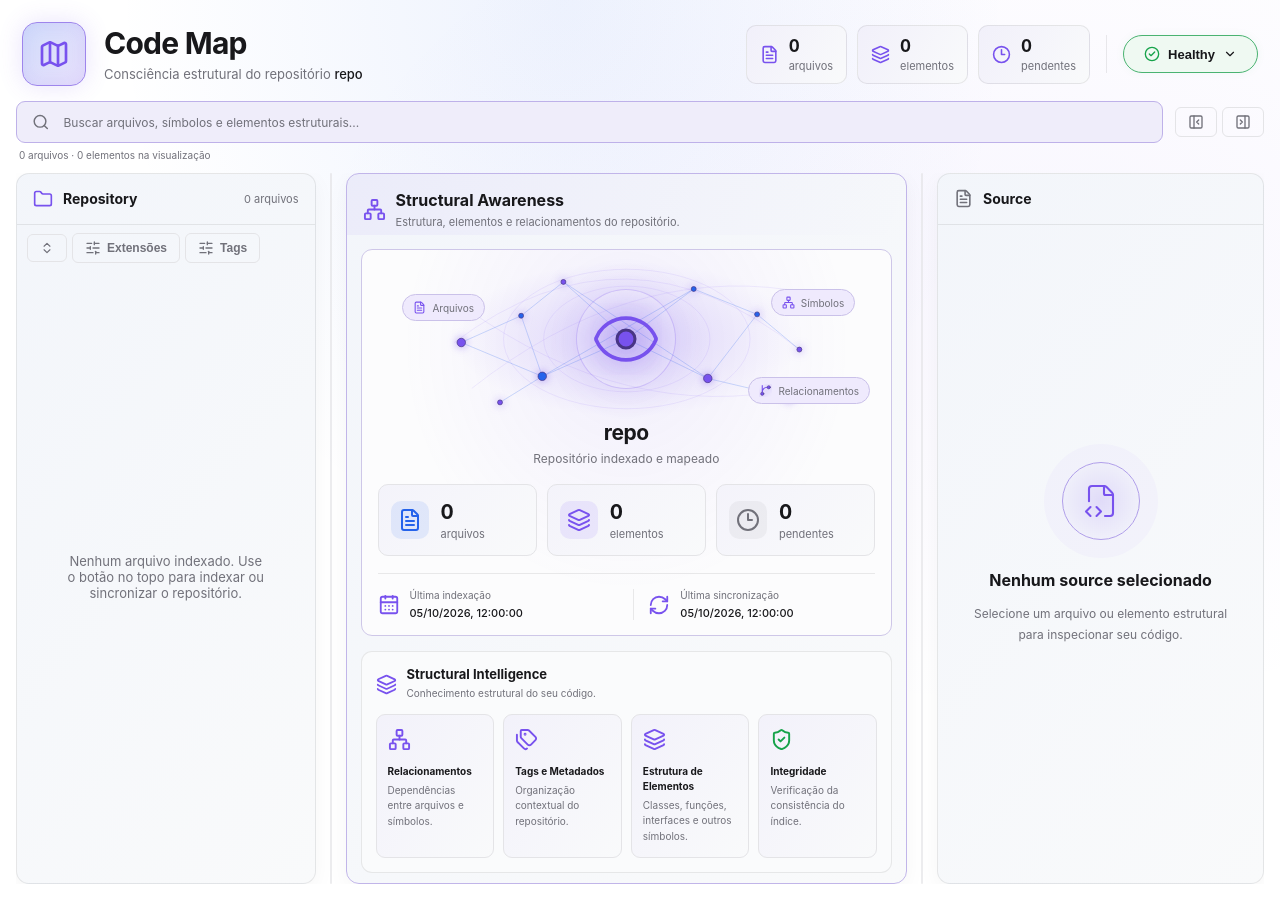
Scenario: does not report Healthy after a failed or unknown integrity result: {"success":false,"error":"Controlled verification failure"}
Click the button with aria-label "Code Map Health: Healthy": (1190, 54) [1123,35,1258,73]
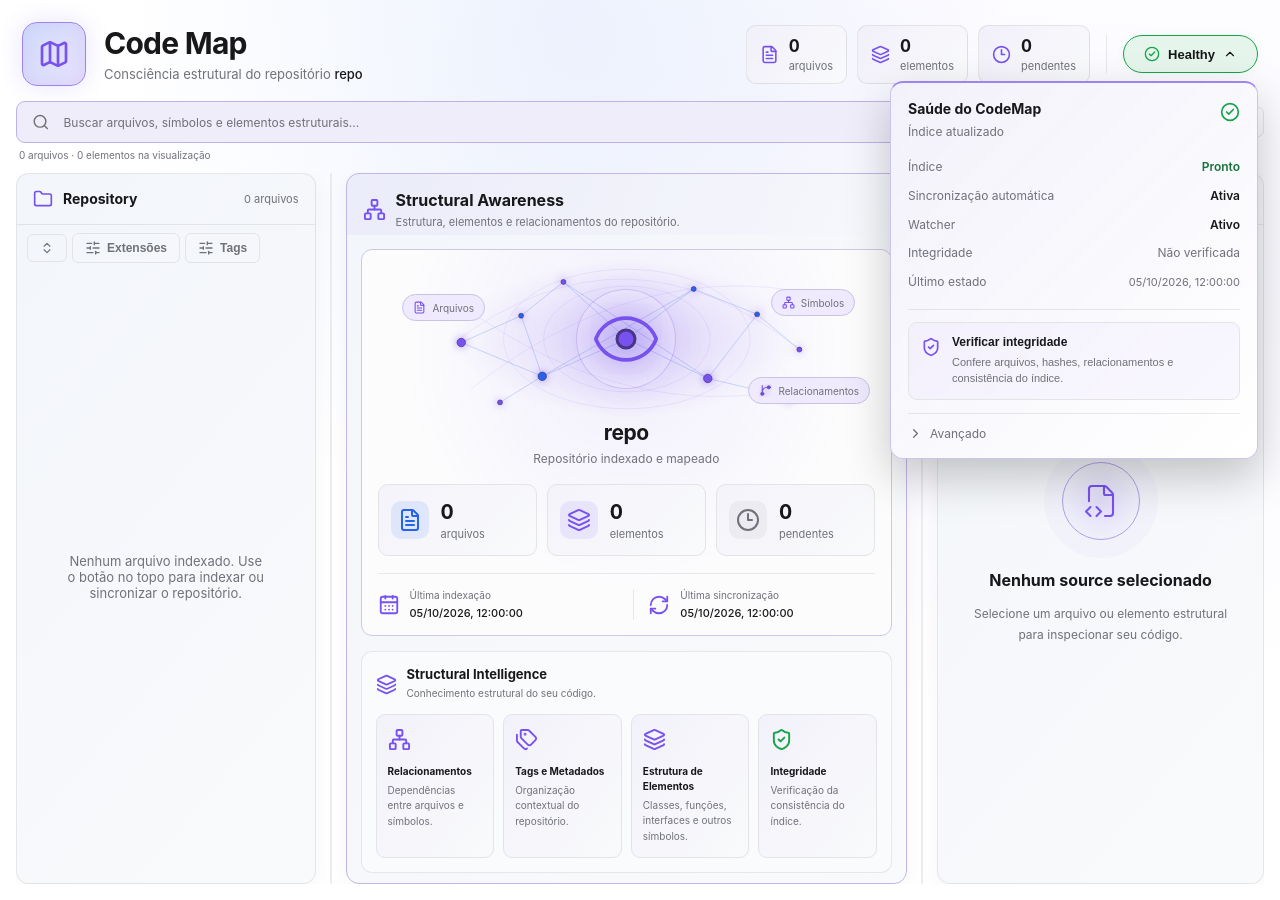
Click the button "Verificar integridade": (1074, 361) [908,322,1240,400]
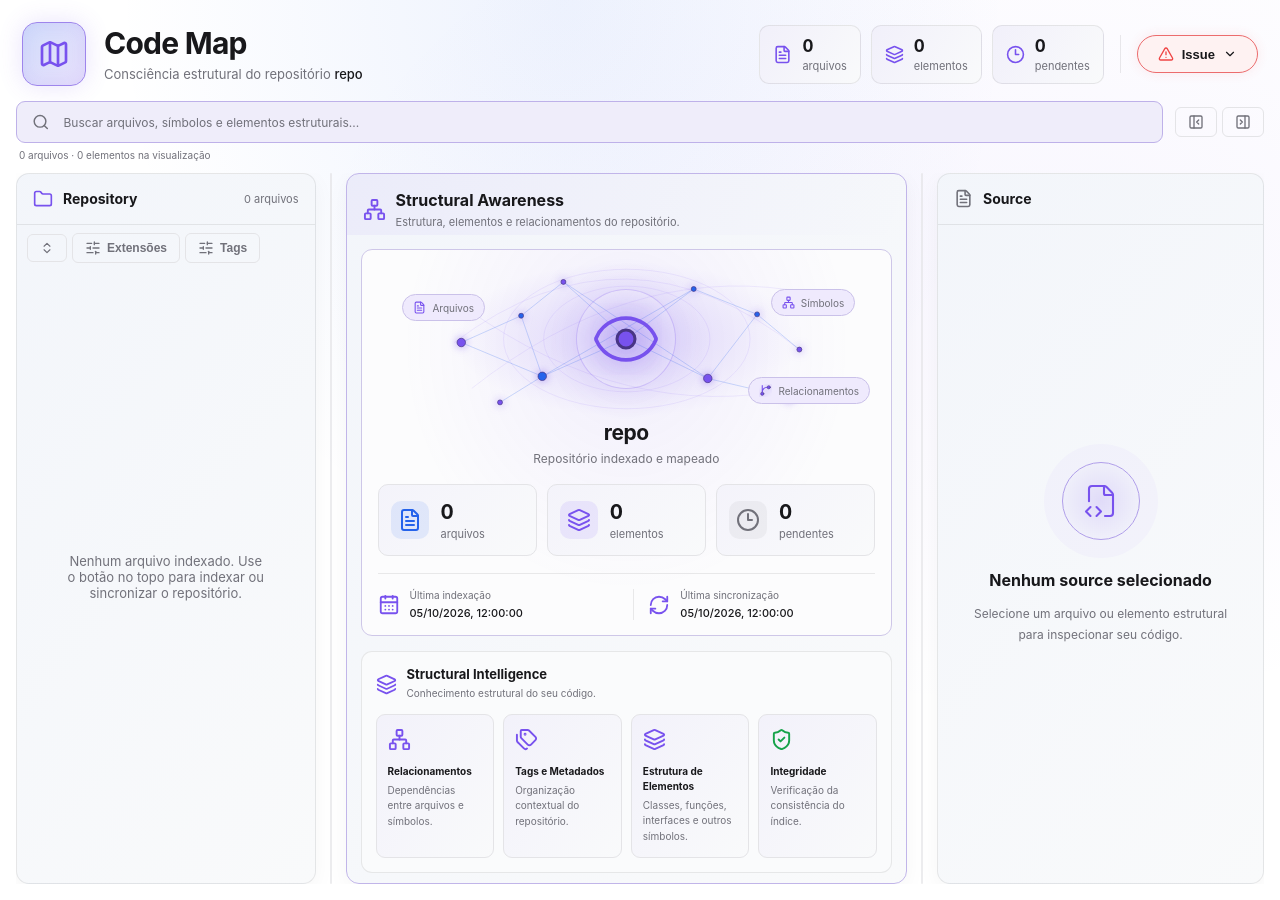
Click the button with aria-label "Code Map Health: Issue": (1197, 54) [1137,35,1258,73]
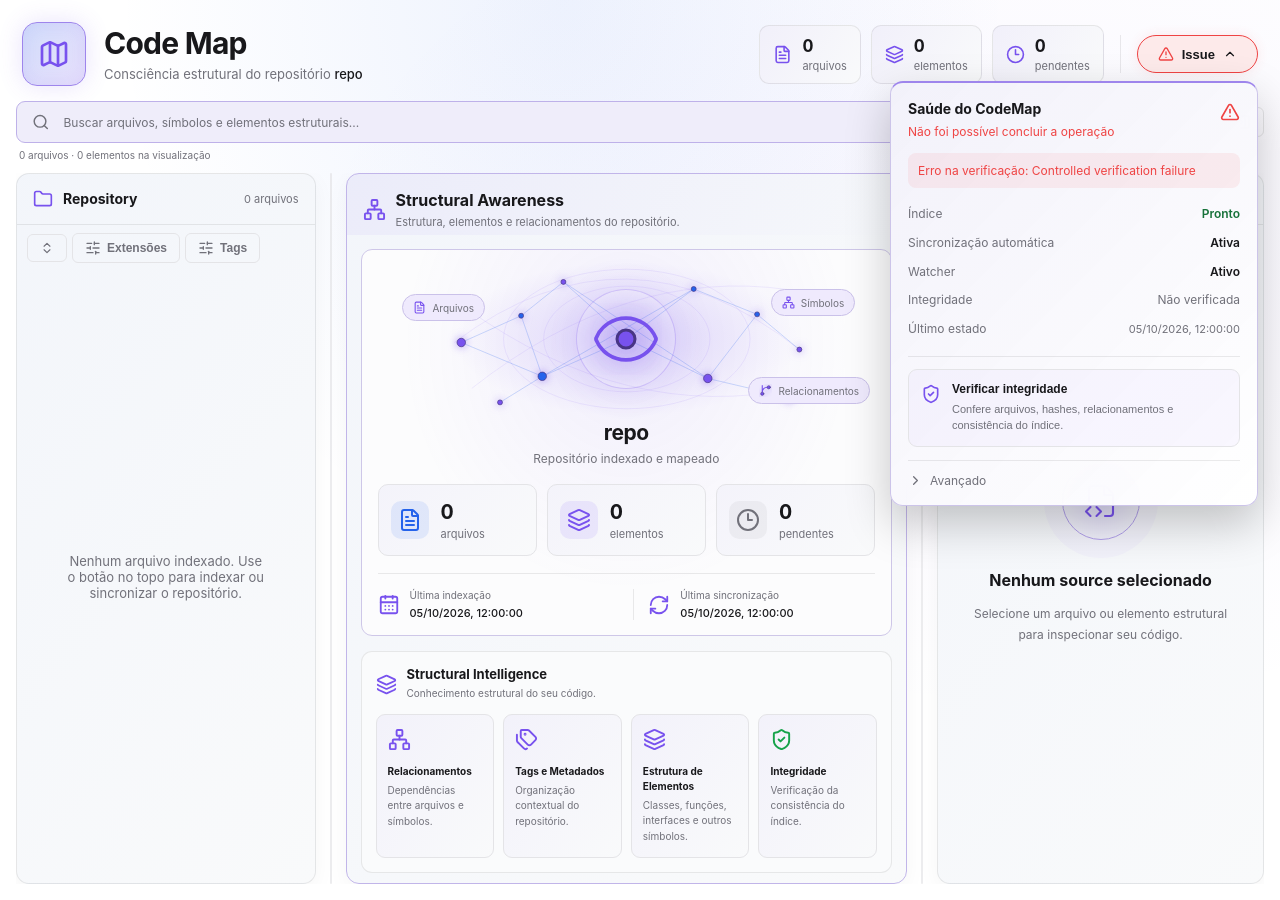
Expected: the message "Erro na verificação: Controlled verification failure" is shown, [908,153,1240,188]
